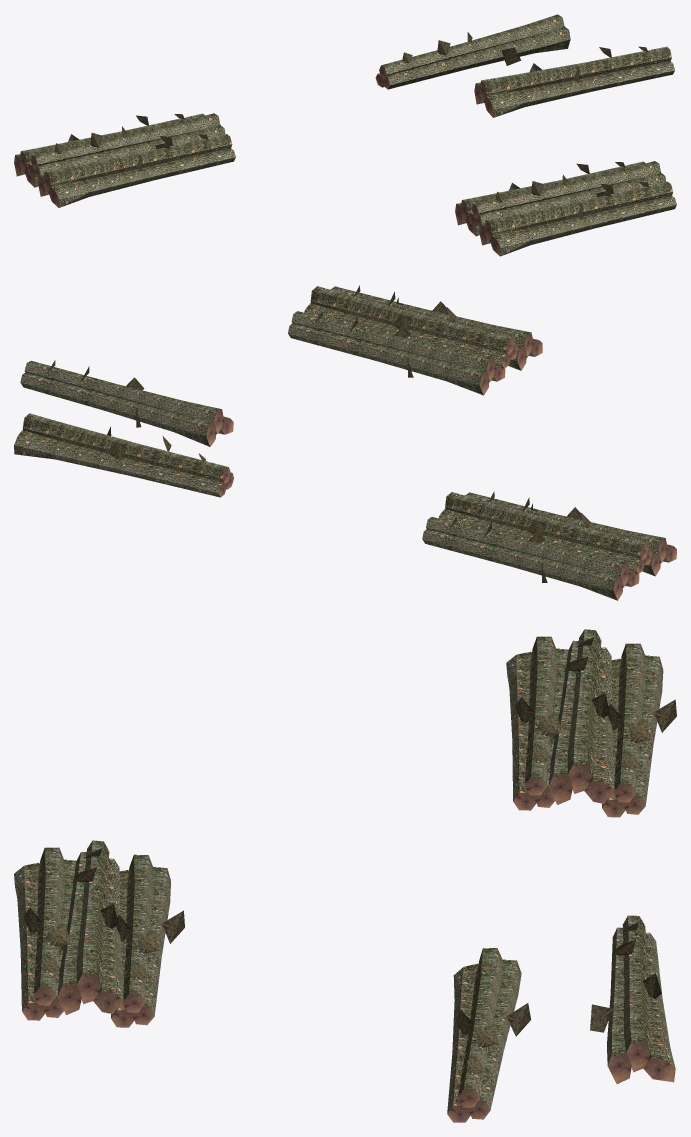
Rendered from cs_logs04.obj.
3 renders of one model, top to bottom at view 1: azimuth 30°, elevation 25°; view 2: azimuth 150°, elevation 25°; view 3: azimuth 270°, elevation 25°, orthographic. The views are drawn at different scales.
Parts seen in each view (by area): view 1: Cs_Logs04; view 2: Cs_Logs04; view 3: Cs_Logs04.
Boxes of the visible parts, bbox=[...] form: Cs_Logs04: bbox=[14, 14, 676, 256]; Cs_Logs04: bbox=[14, 285, 676, 600]; Cs_Logs04: bbox=[14, 629, 676, 1122].
Bounding box in the file's own units: 18.15 × 1.35 × 11.32.
Materials: 3 (3 with a texture image).
